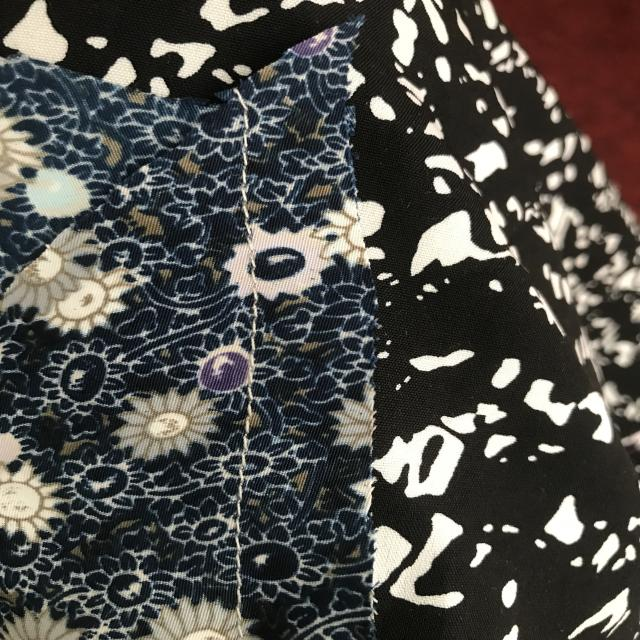good: (234, 419, 252, 556)
